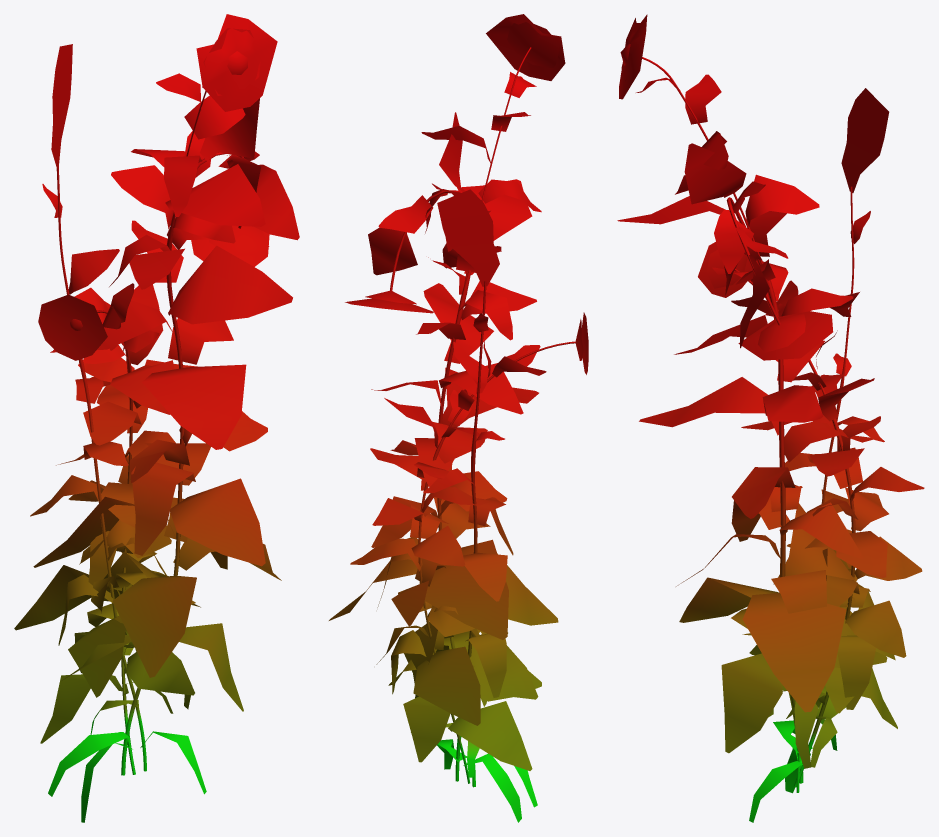
File: Crownbeard_LOD1_Var6_tefoajkr.fbx
The picture shows the model from 3 angles, left to right: view 1: azimuth 30°, elevation 25°; view 2: azimuth 150°, elevation 25°; view 3: azimuth 270°, elevation 25°; orthographic projection. The views are drawn at different scales.
Parts seen in each view (by area): view 1: _1a28_Var6_LOD1; view 2: _1a28_Var6_LOD1; view 3: _1a28_Var6_LOD1.
Boxes of the visible parts, left/top/right/bottom form: _1a28_Var6_LOD1: left=14, top=14, right=299, bottom=822; _1a28_Var6_LOD1: left=329, top=14, right=588, bottom=822; _1a28_Var6_LOD1: left=617, top=14, right=924, bottom=822.
Size of the model in its own units: 31.03 by 93.31 by 32.03.
